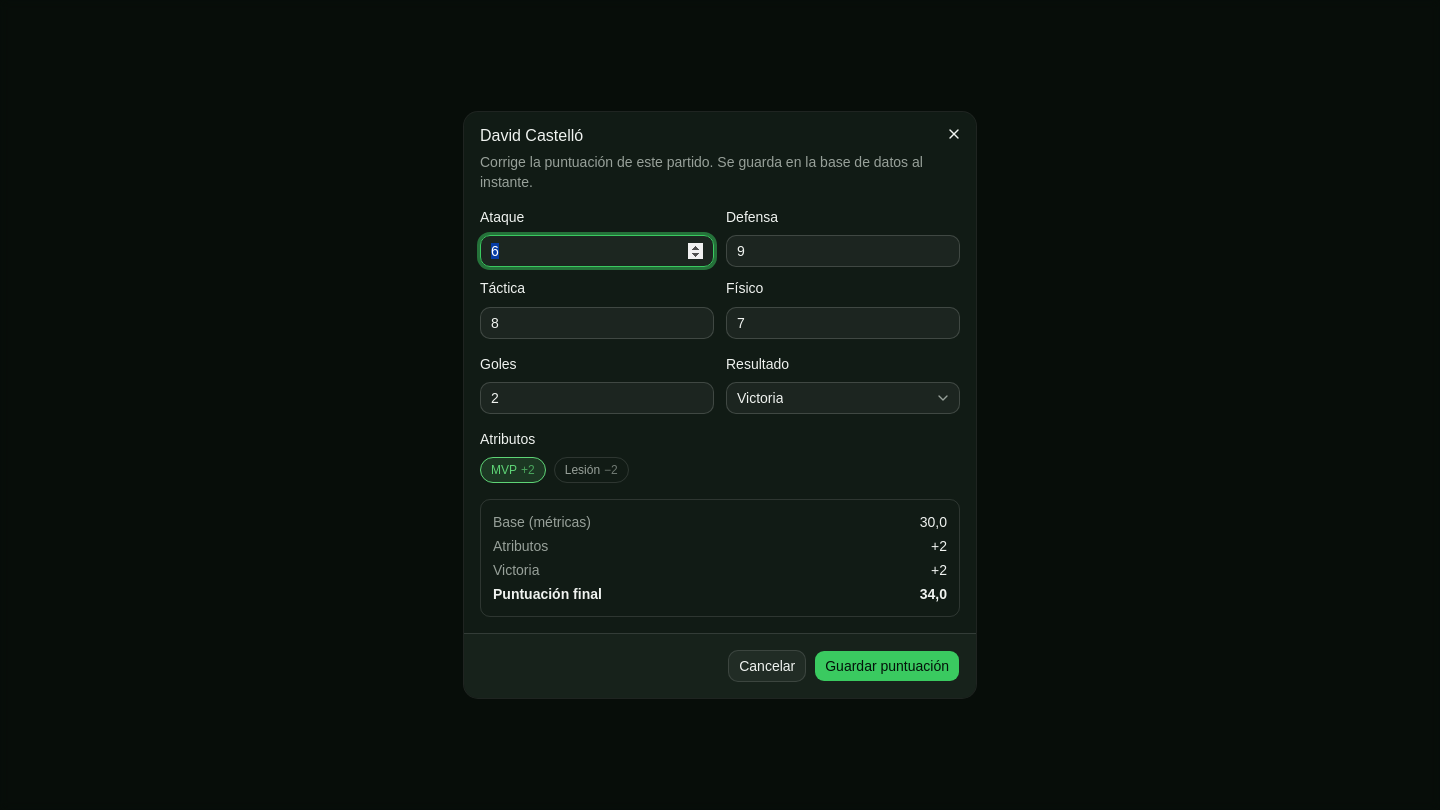
Test: MatchScoreDialog › refuses to save a metric outside its range
Replace the text in the number field with test id "score-metric-attack" with "12" at (597, 251), box [480,235,714,267]
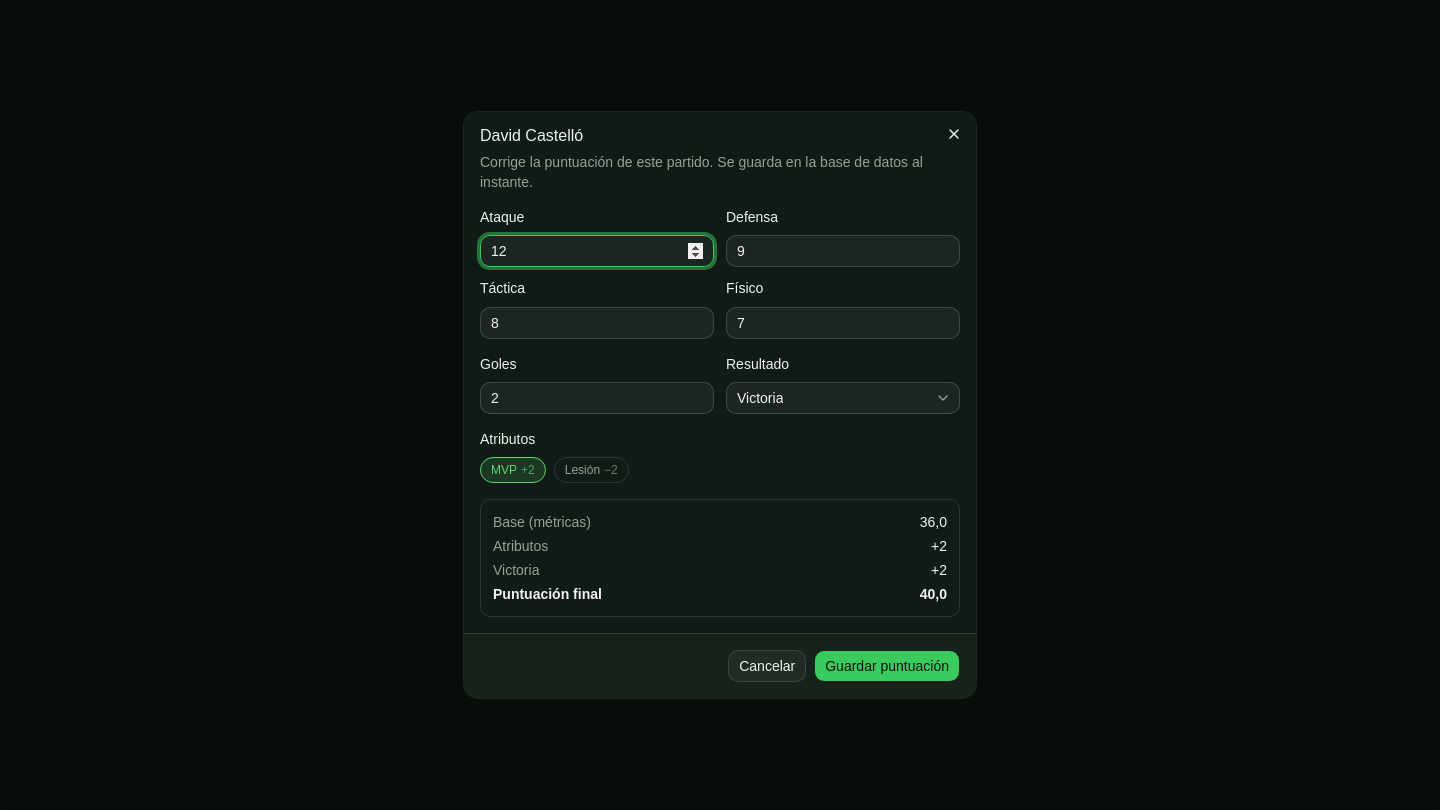
Click the button with test id "score-submit" at (887, 666), box [814,650,960,682]
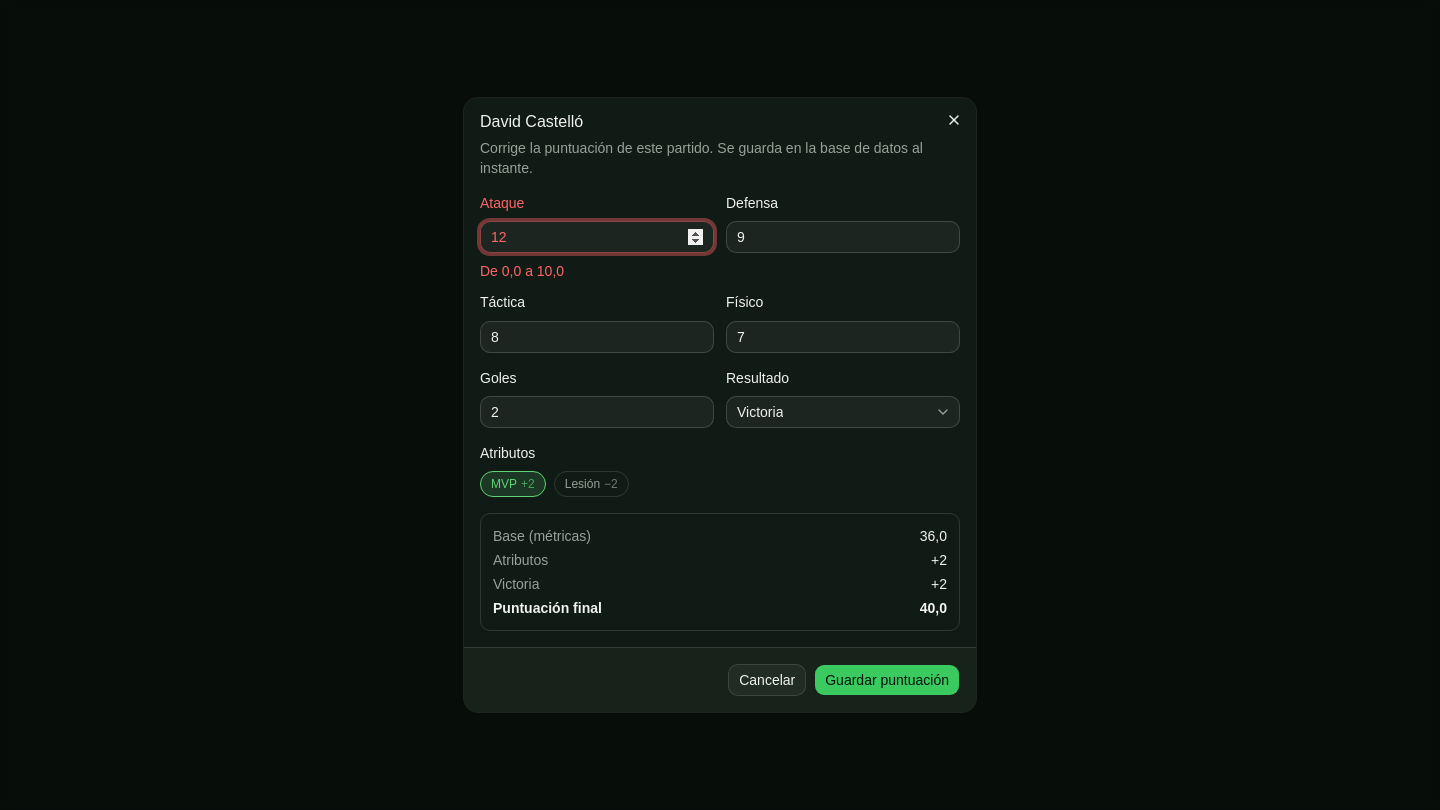
Result: the text "De 0,0 a 10,0" is shown at [480,263,564,279]
